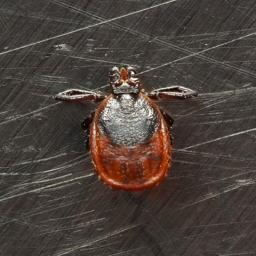Ixodes scapularis: (58, 67, 196, 187)
